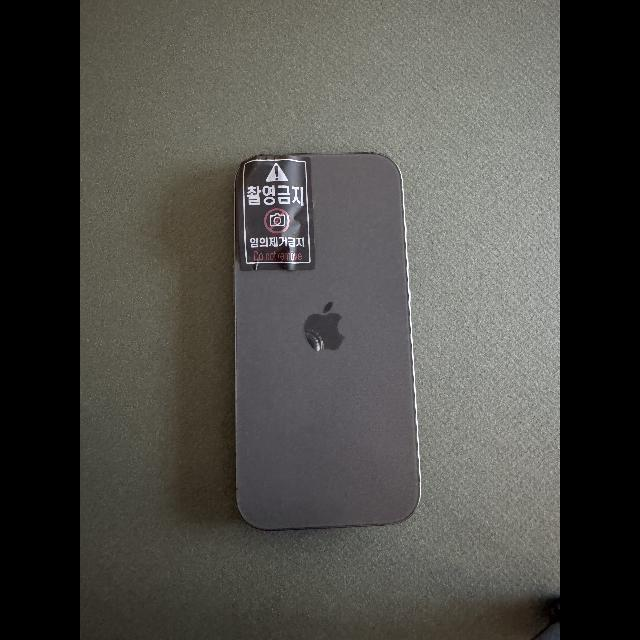phone: (234, 154, 421, 530)
sticker: (236, 154, 316, 270)
